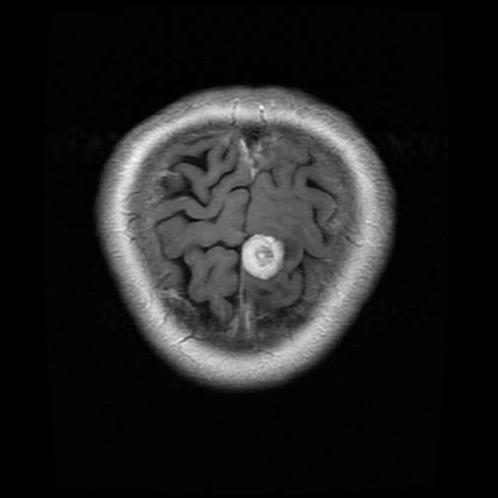Tumour-Pituitary: (233, 234, 300, 286)
